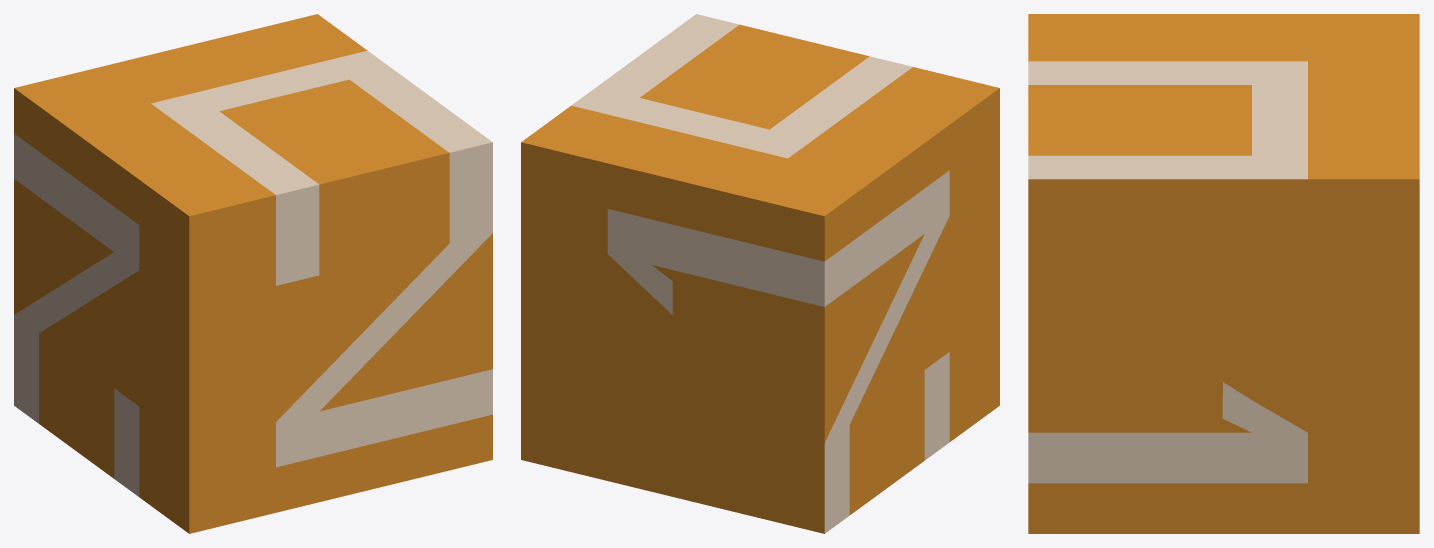
Rendered from HTC_Cube.glb.
3 views of the same model, side by side, from view 1: azimuth 30°, elevation 25°; view 2: azimuth 150°, elevation 25°; view 3: azimuth 270°, elevation 25° (orthographic). The views are drawn at different scales.
Parts seen in each view (by area): view 1: HTC_Cube; view 2: HTC_Cube; view 3: HTC_Cube.
Boxes of the visible parts, x1,y1,x2,y2 form: HTC_Cube: (14,14,492,533); HTC_Cube: (521,14,999,533); HTC_Cube: (1028,14,1419,533).
Size of what is drawn, in the model's own units: 1 by 1 by 1.
1 material, 1 textured.
